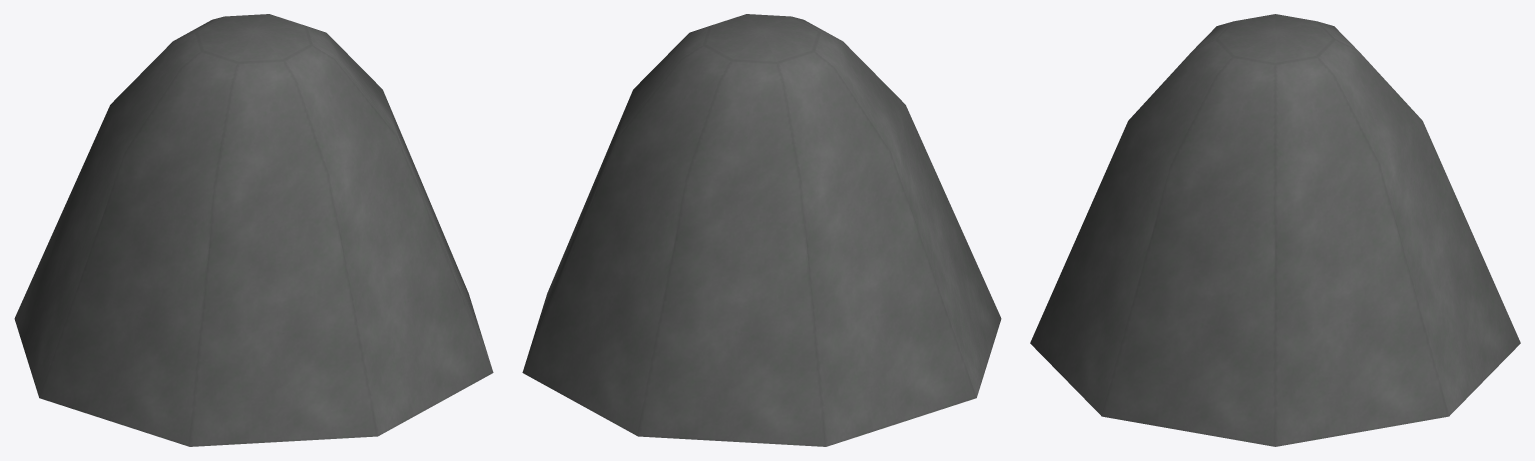
The model's file is Stone.fbx.
3 views of the same model, side by side, from view 1: azimuth 30°, elevation 25°; view 2: azimuth 150°, elevation 25°; view 3: azimuth 270°, elevation 25° (orthographic).
Visible parts, largest first — view 1: Base; view 2: Base; view 3: Base.
Part boxes in pixels (bbox=[...]): Base: bbox=[14, 14, 493, 446]; Base: bbox=[522, 14, 1001, 446]; Base: bbox=[1030, 14, 1520, 446].
Size of the model in its own units: 100 by 70 by 100.
